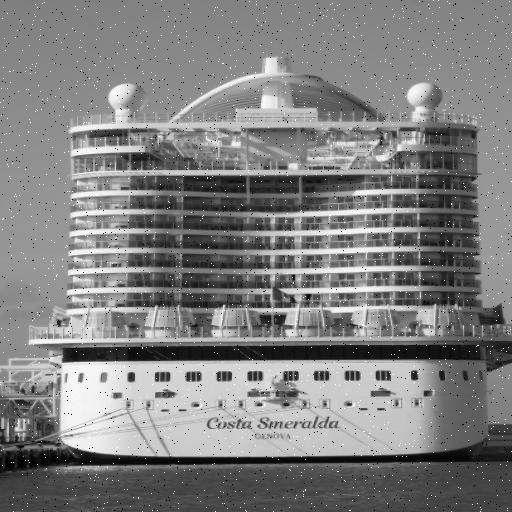cruises: (35, 52, 512, 463)
